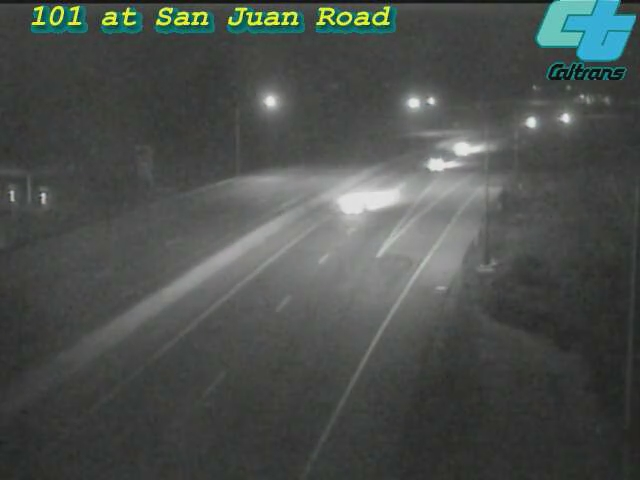vehicle: (396, 126, 476, 206), (315, 166, 395, 246), (504, 98, 554, 148), (540, 93, 590, 143), (434, 124, 484, 174)
